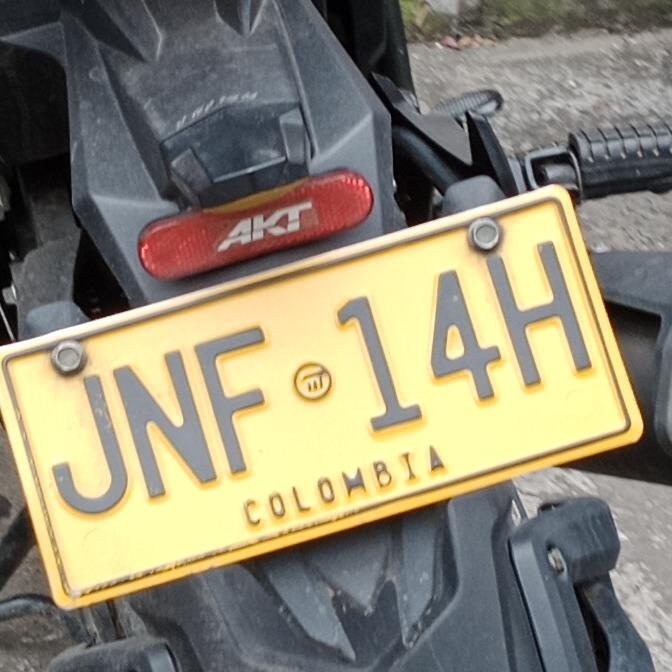plates: (0, 191, 646, 625)
